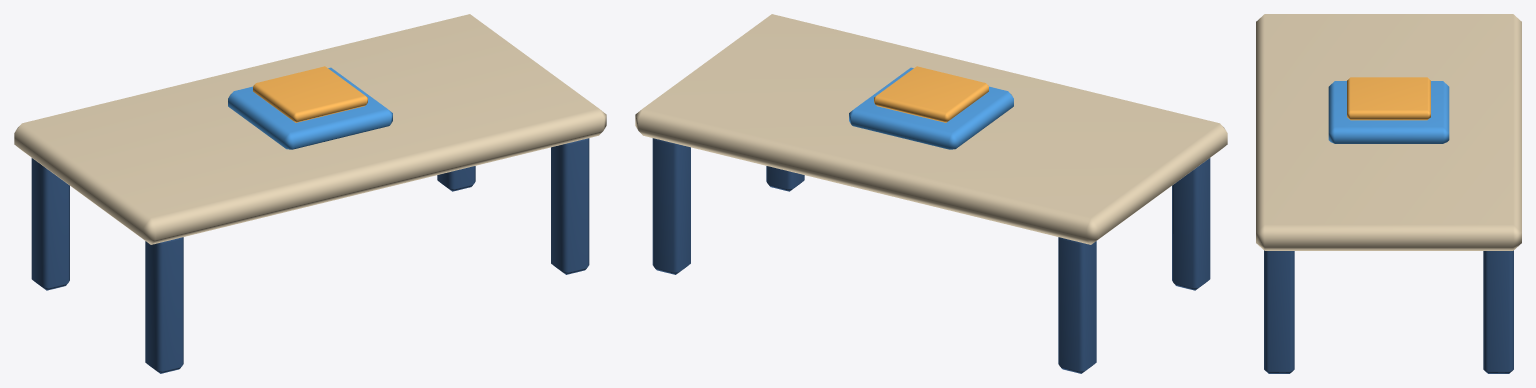
Rendered from SortingTable.fbx.
3 views of the same model, side by side, from view 1: azimuth 30°, elevation 25°; view 2: azimuth 150°, elevation 25°; view 3: azimuth 270°, elevation 25° (orthographic). The views are drawn at different scales.
Parts seen in each view (by area): view 1: sorting tabletop, table leg, table leg.002, inspection podium, table leg.001, inspection turntable, table leg.003; view 2: sorting tabletop, table leg.001, table leg.003, inspection podium, table leg, inspection turntable, table leg.002; view 3: sorting tabletop, inspection podium, table leg.002, table leg.003, inspection turntable.
Boxes of the visible parts, x1,y1,x2,y2 form: sorting tabletop: [14, 14, 606, 244]; table leg: [145, 237, 183, 373]; table leg.002: [551, 138, 589, 274]; inspection podium: [228, 67, 392, 149]; table leg.001: [31, 158, 69, 290]; inspection turntable: [253, 66, 367, 122]; table leg.003: [437, 166, 475, 191]; sorting tabletop: [635, 14, 1227, 244]; table leg.001: [1058, 237, 1096, 373]; table leg.003: [652, 138, 690, 274]; inspection podium: [849, 67, 1013, 149]; table leg: [1172, 158, 1210, 290]; inspection turntable: [874, 66, 988, 122]; table leg.002: [766, 166, 804, 191]; sorting tabletop: [1256, 14, 1521, 250]; inspection podium: [1328, 81, 1449, 143]; table leg.002: [1264, 250, 1294, 373]; table leg.003: [1483, 250, 1513, 373]; inspection turntable: [1347, 77, 1430, 120].
Bounding box in the file's own units: 320 × 124 × 165.
